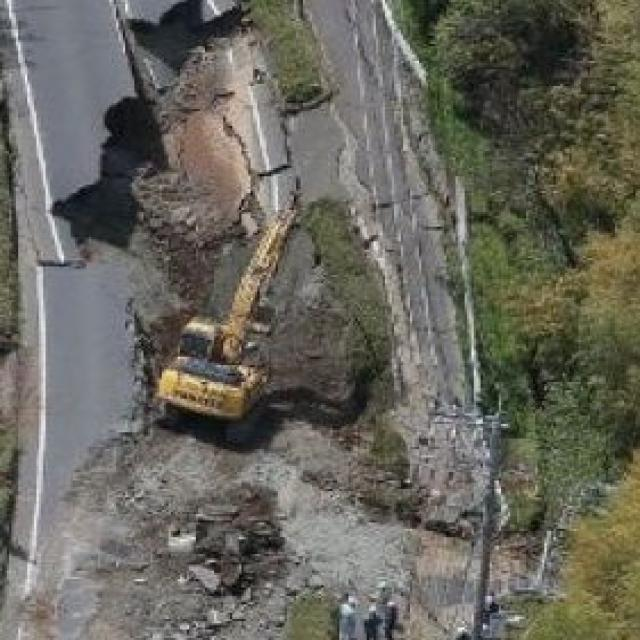collapsed_building: (46, 0, 437, 638)
